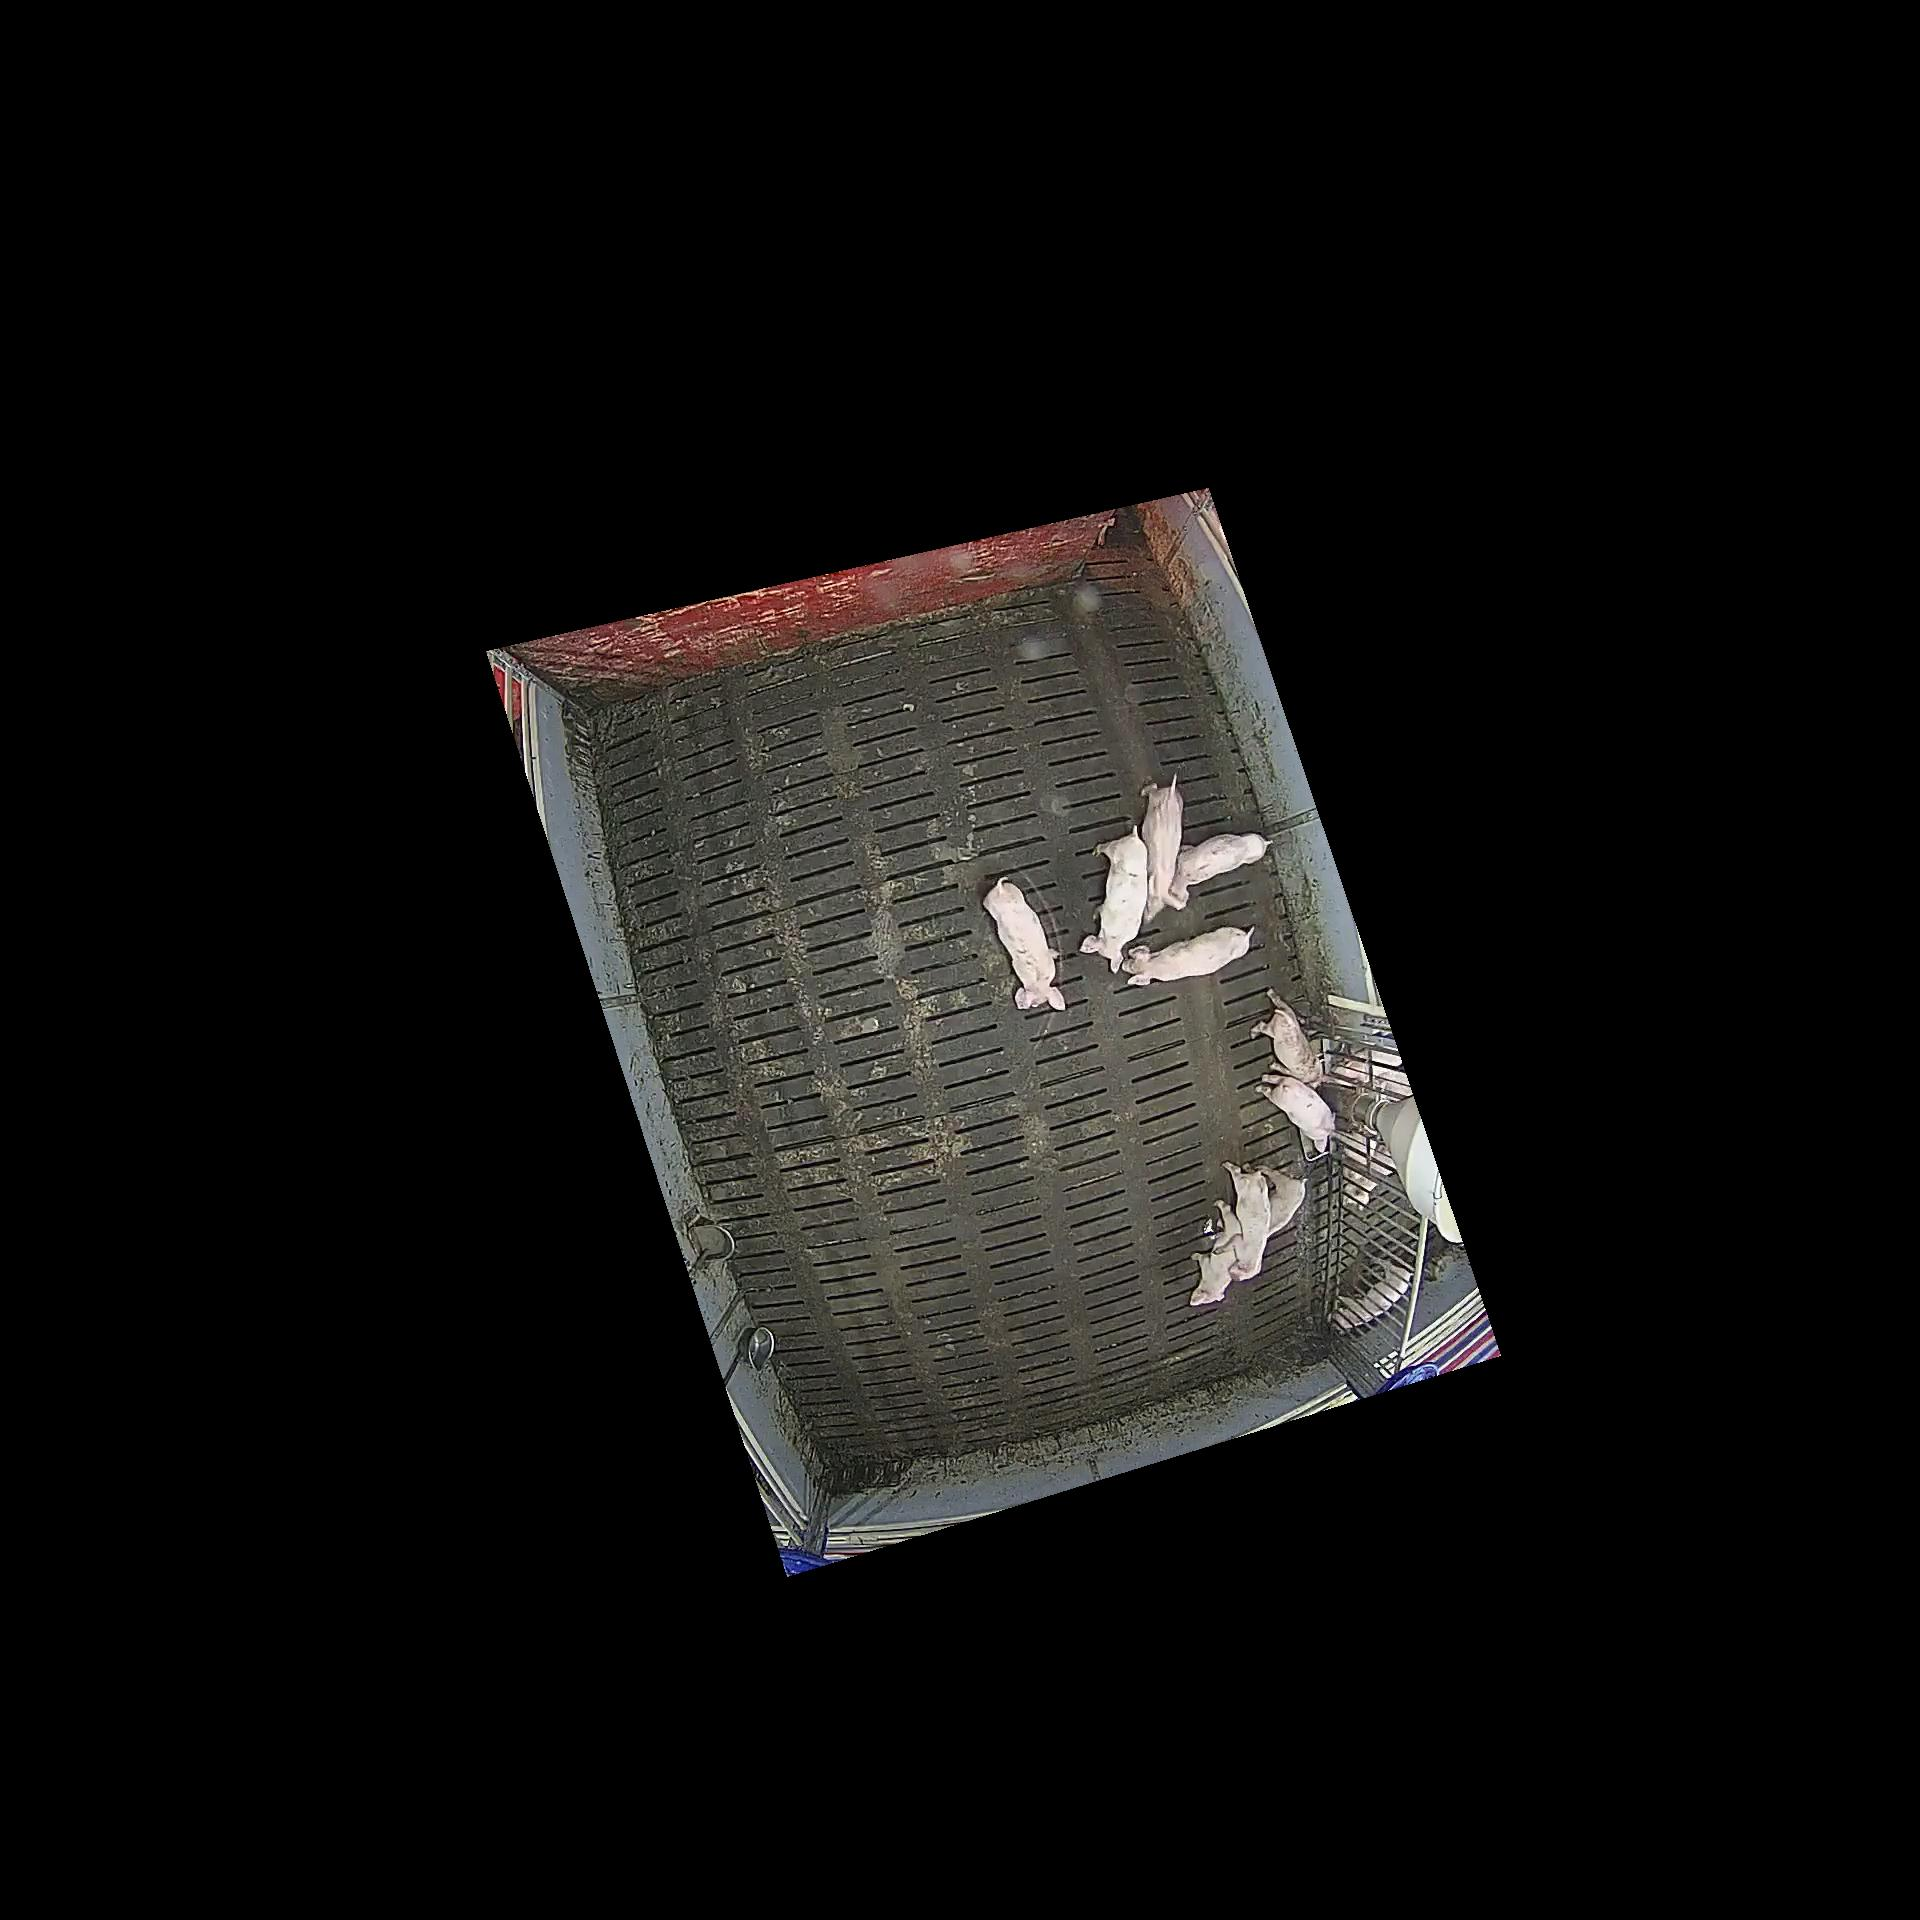pig: (981, 876, 1065, 1011), (1078, 825, 1146, 974), (1124, 925, 1255, 985), (1169, 833, 1273, 904), (1215, 1160, 1271, 1282), (1141, 772, 1185, 921), (1252, 986, 1320, 1080), (1255, 1074, 1338, 1150), (1189, 1199, 1243, 1305), (1261, 1164, 1308, 1234)
